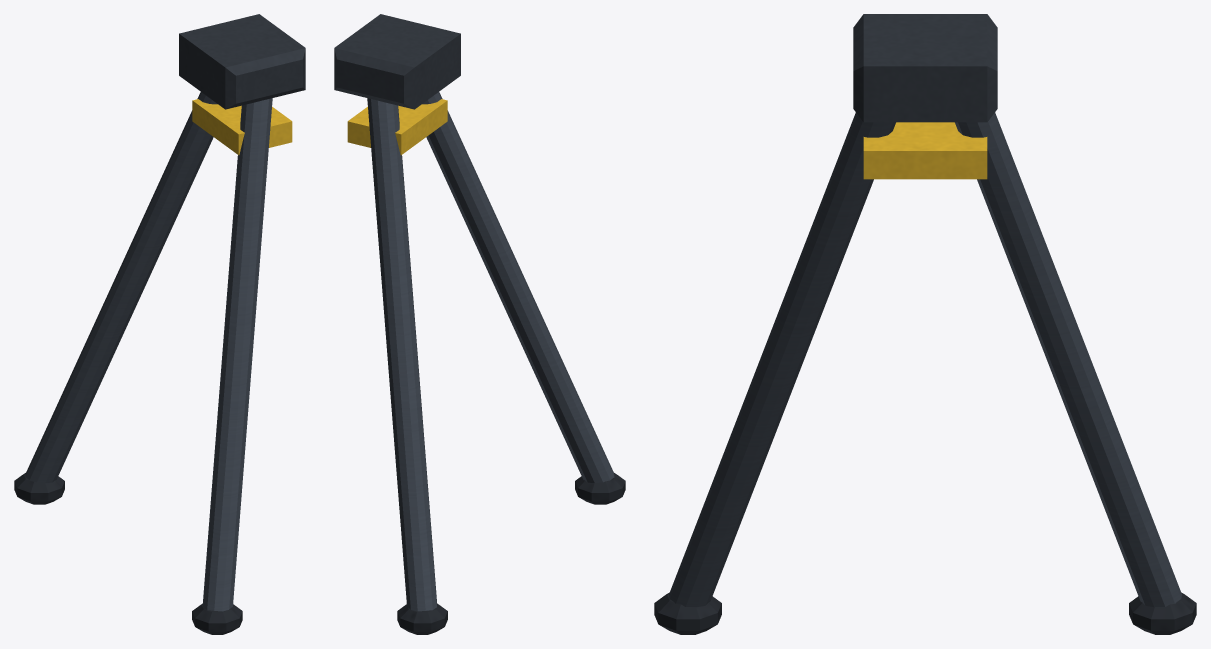
Rendered from grip_bipod_v2.glb.
3 views of the same model, side by side, from view 1: azimuth 30°, elevation 25°; view 2: azimuth 150°, elevation 25°; view 3: azimuth 270°, elevation 25° (orthographic). The views are drawn at different scales.
Visible parts, largest first — view 1: grip_bipod_mesh; view 2: grip_bipod_mesh; view 3: grip_bipod_mesh.
Part boxes in pixels (<box>): grip_bipod_mesh: <box>14,14,305,634</box>; grip_bipod_mesh: <box>334,14,625,634</box>; grip_bipod_mesh: <box>654,14,1196,634</box>.
Size of the model in its own units: 0.0527 by 0.142 by 0.1051.
4 materials, 4 textured.
